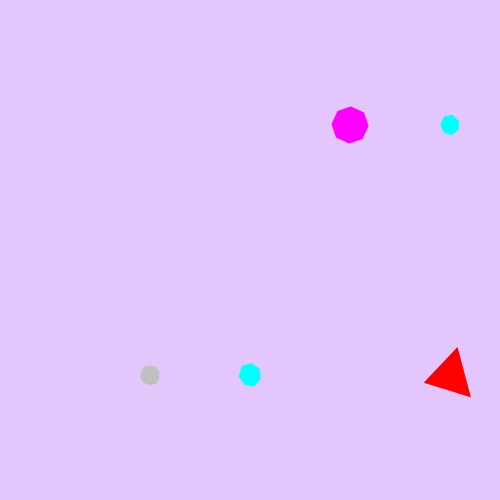decagon: (135, 361, 165, 389)
heptagon: (234, 360, 266, 390), (436, 111, 465, 139)
octagon: (328, 103, 373, 148)
triangle: (425, 348, 476, 402)
